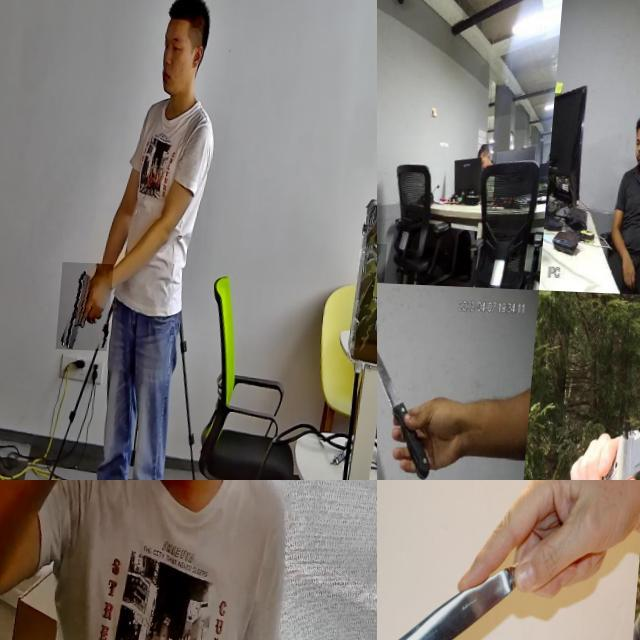-: (377, 498, 554, 640), (377, 334, 446, 479), (595, 381, 640, 480), (377, 242, 391, 281), (485, 480, 507, 497)
gun-knife-thesis - v11 Yolov5 augmented: (90, 480, 251, 593), (64, 260, 120, 349)
